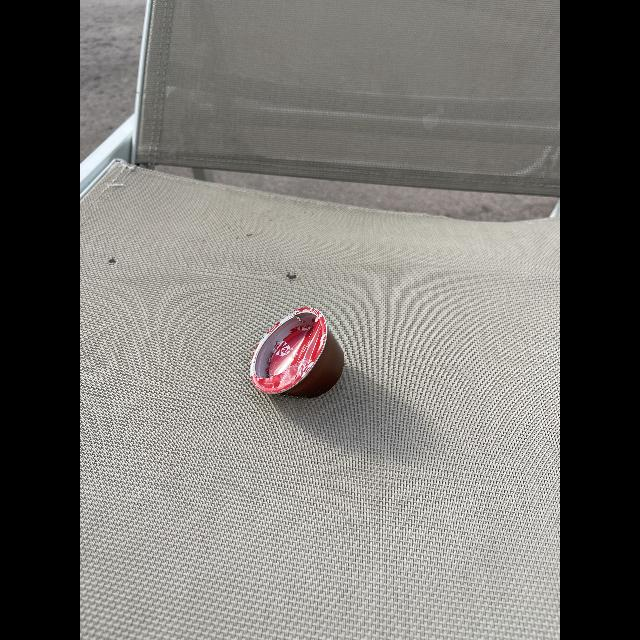damaged_capsule: (244, 300, 348, 412)
